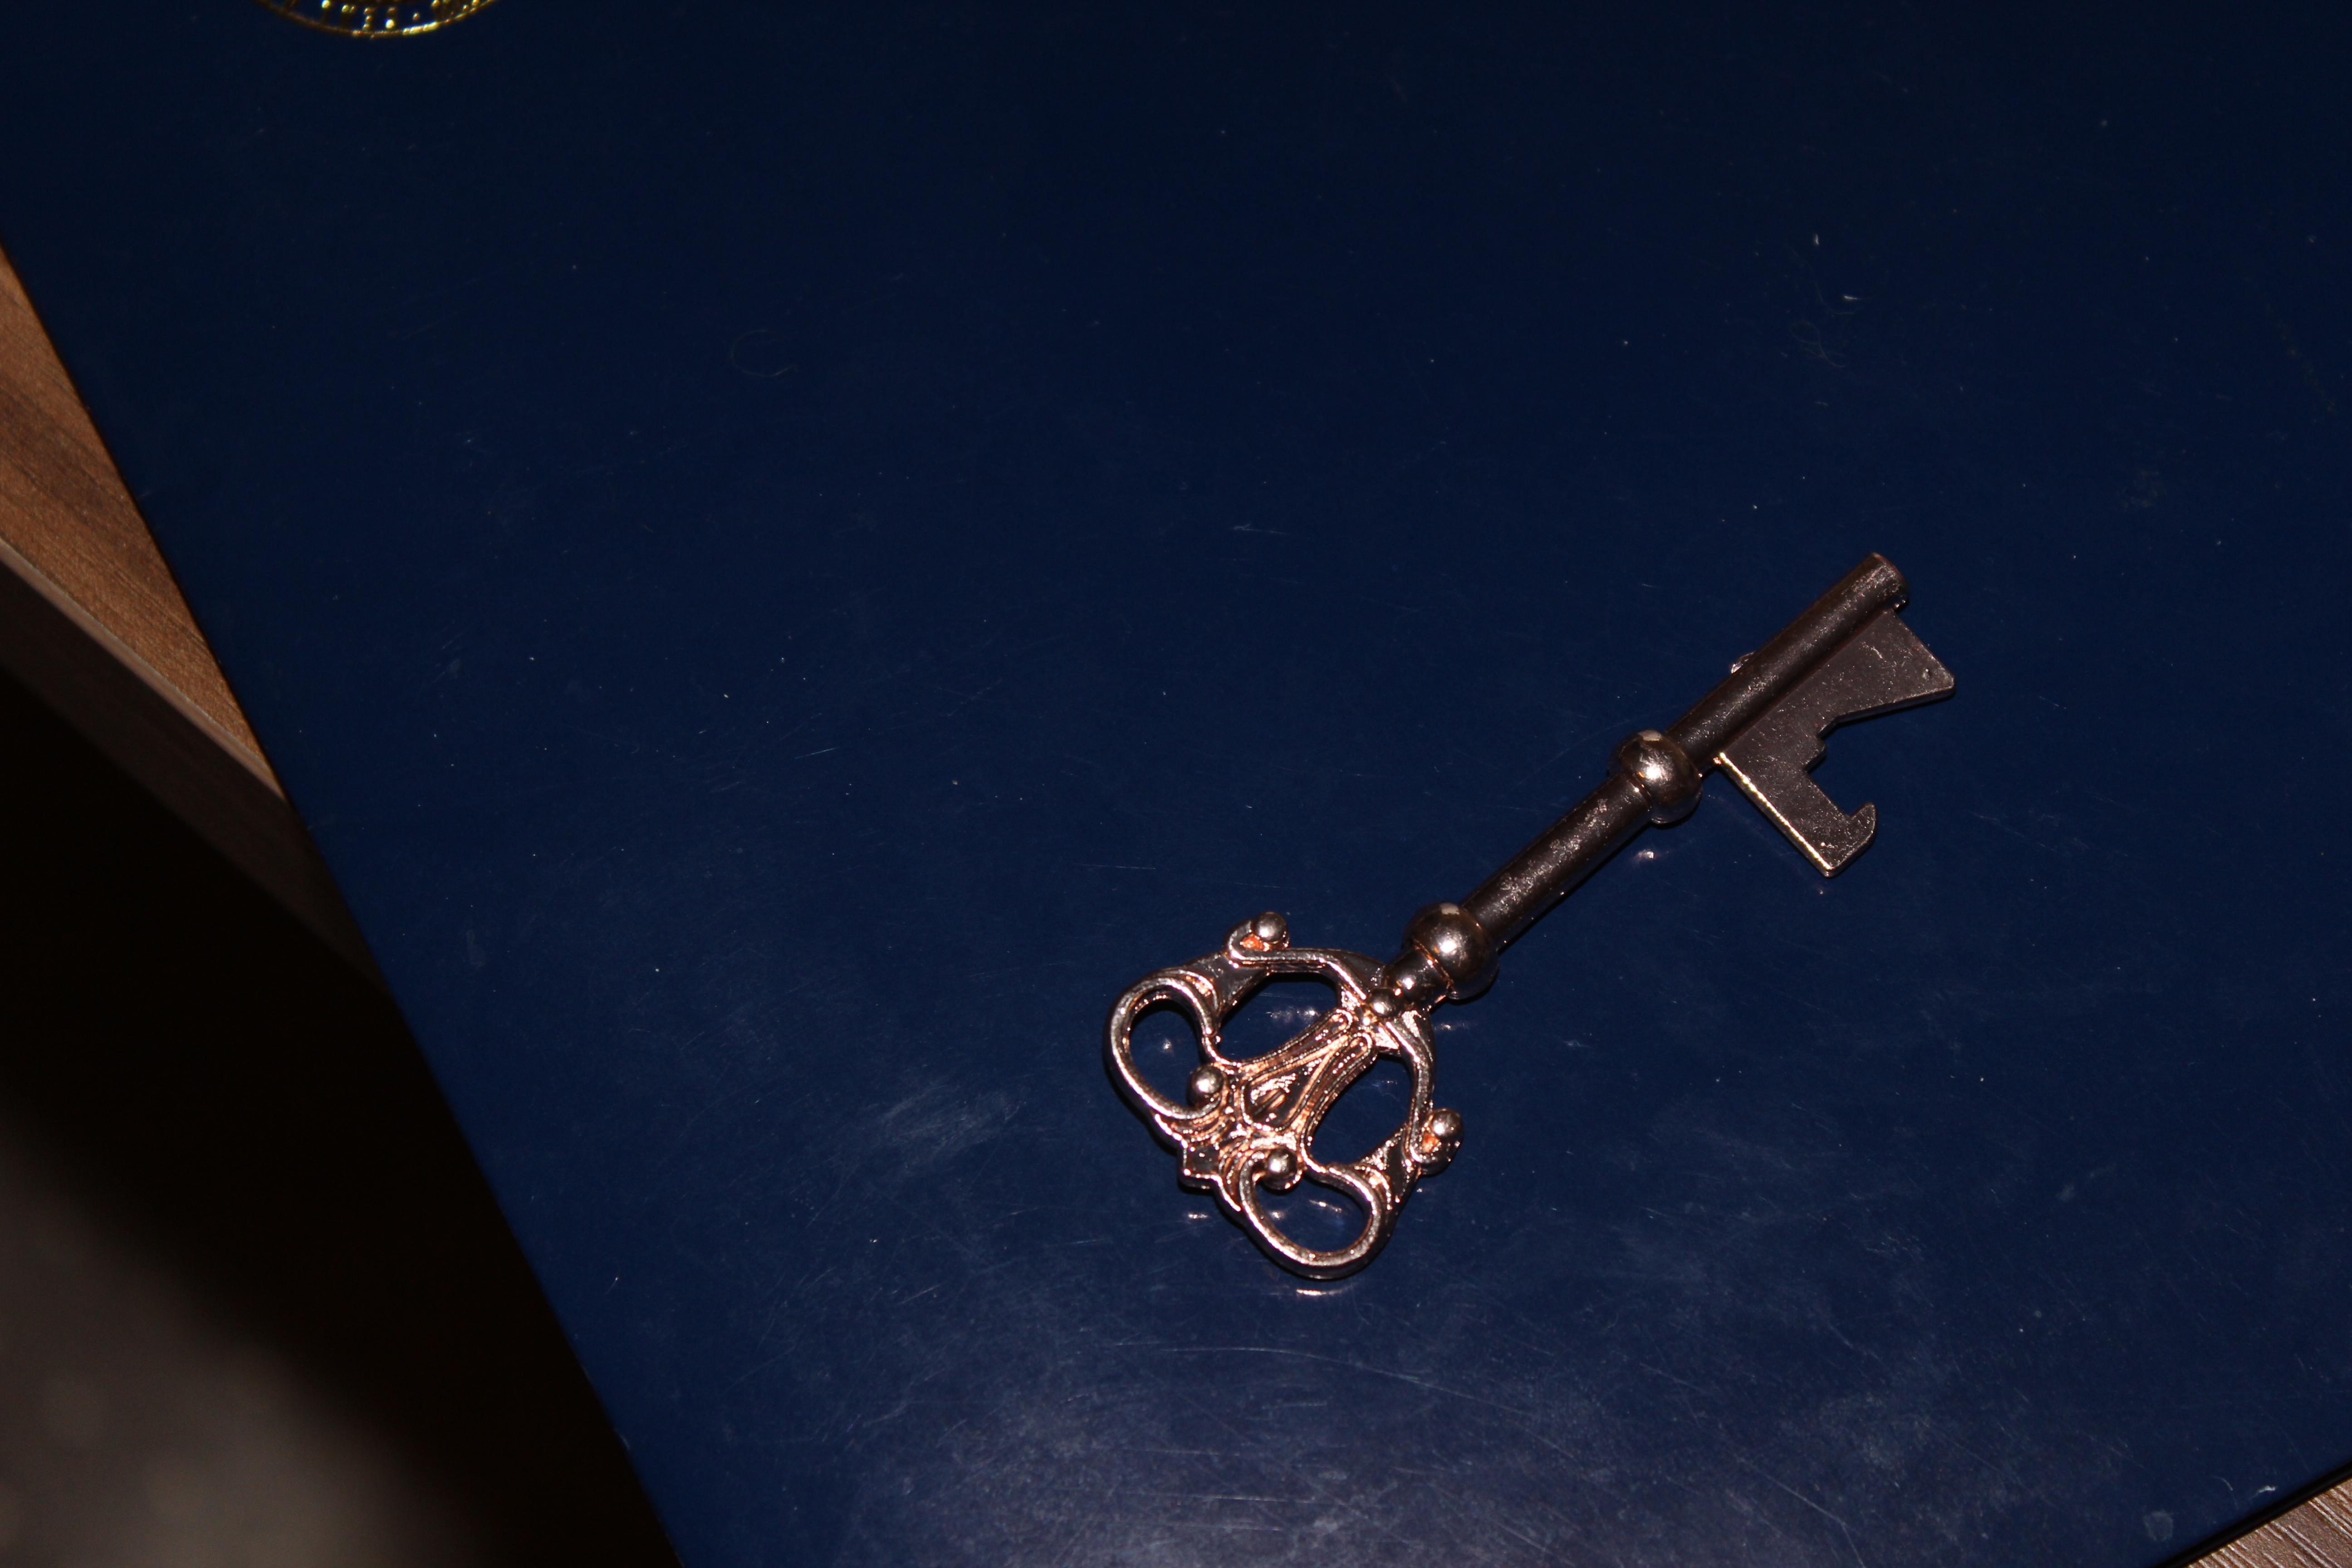metalKey: (1055, 514, 1979, 1326)
